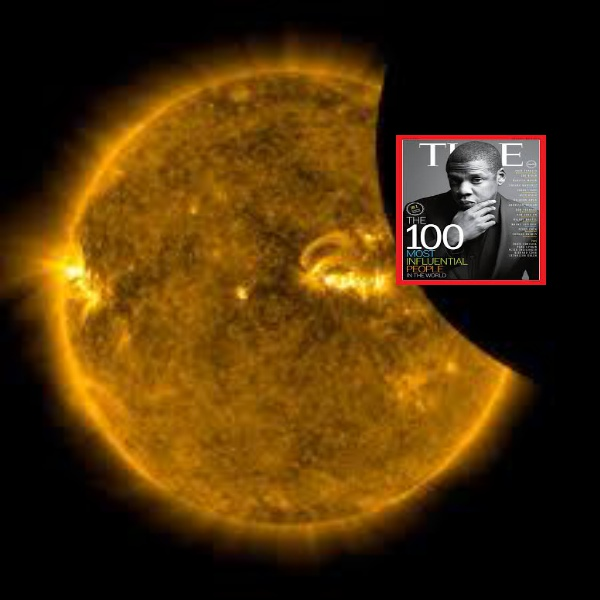time_cover: (388, 120, 559, 289)
